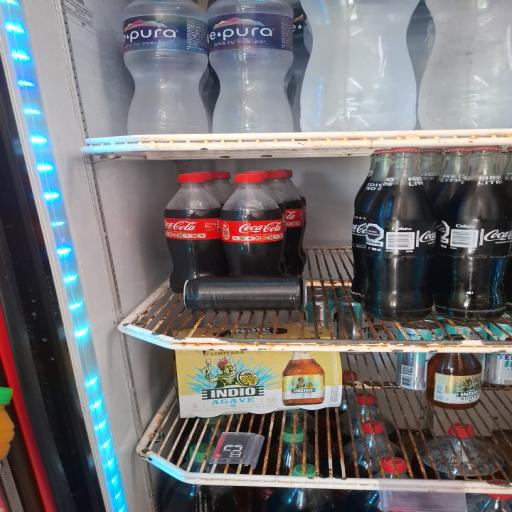LATA: (166, 267, 326, 316)
